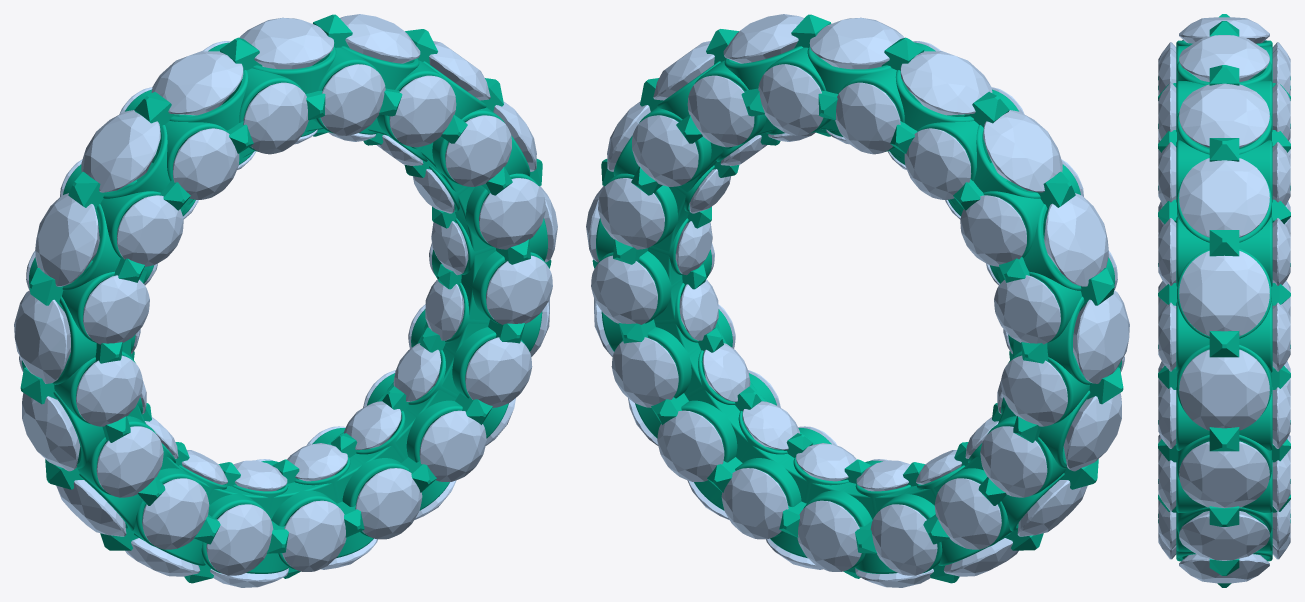
3 views of the same model, side by side, from view 1: azimuth 30°, elevation 25°; view 2: azimuth 150°, elevation 25°; view 3: azimuth 270°, elevation 25° (orthographic). The views are drawn at different scales.
Visible parts, largest first — view 1: Diamond_Round (×37), VR1002(render).3dm, Bezel (×26); view 2: Diamond_Round (×37), VR1002(render).3dm, Bezel (×26); view 3: Diamond_Round (×27), Bezel (×20), VR1002(render).3dm.
Boxes of the visible parts, bbox=[...] form: Diamond_Round (×37): bbox=[14, 14, 552, 587]; VR1002(render).3dm: bbox=[20, 14, 551, 583]; Bezel (×26): bbox=[53, 46, 545, 573]; Diamond_Round (×37): bbox=[591, 14, 1129, 587]; VR1002(render).3dm: bbox=[592, 14, 1123, 583]; Bezel (×26): bbox=[598, 46, 1091, 573]; Diamond_Round (×27): bbox=[1158, 17, 1290, 583]; Bezel (×20): bbox=[1176, 61, 1272, 559]; VR1002(render).3dm: bbox=[1158, 14, 1290, 587].
Size of the model in its own units: 2.8 by 2.79 by 0.6478.
